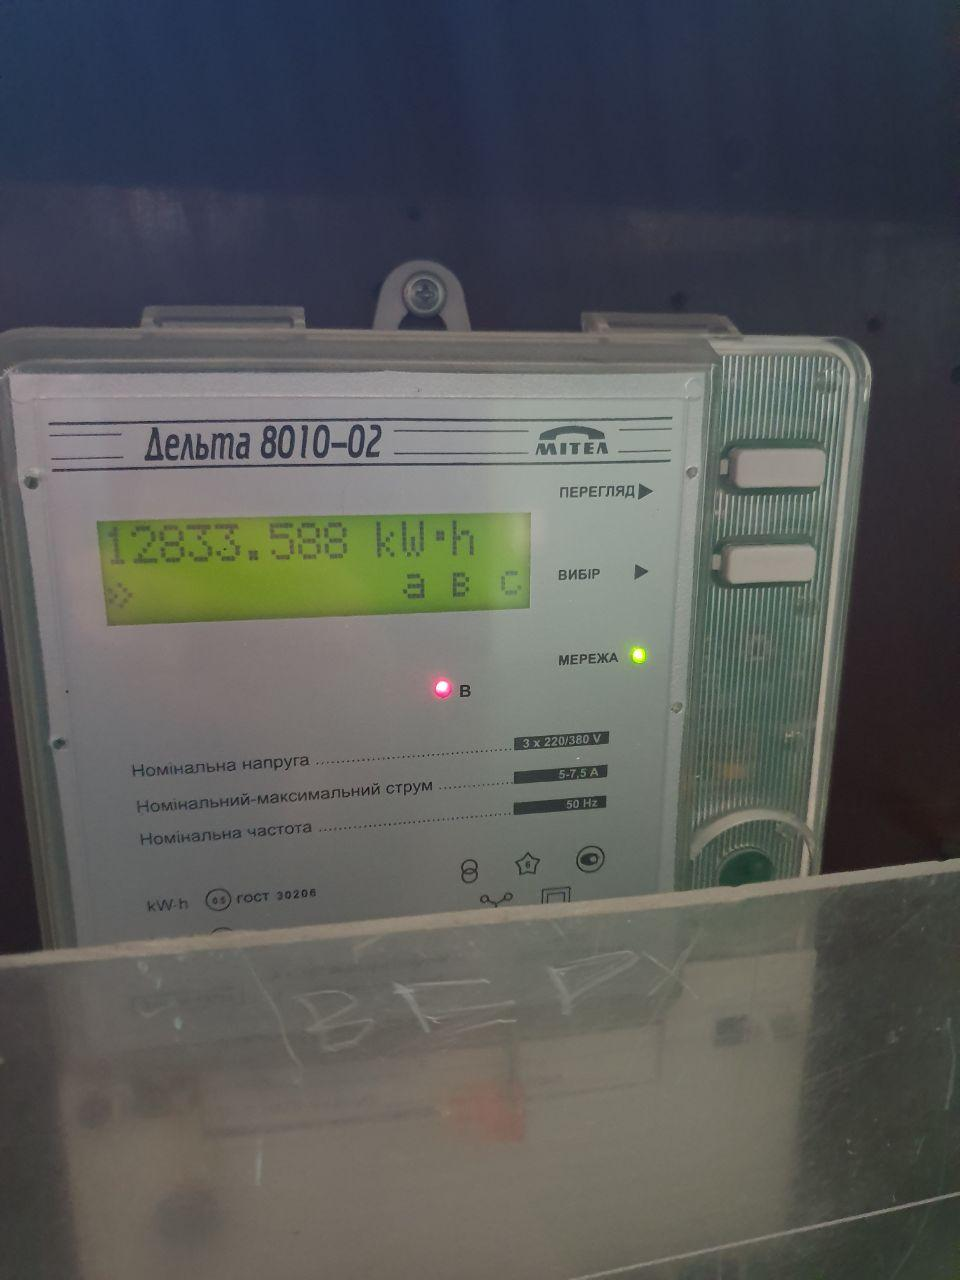counter: (2, 317, 874, 1177)
counter_screen: (85, 506, 539, 632)
